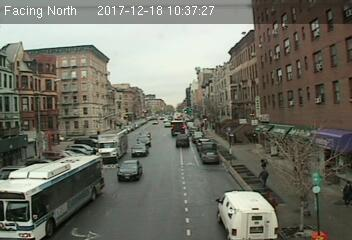bus: (1, 151, 100, 240)
car: (118, 160, 142, 180), (201, 148, 220, 165), (130, 143, 148, 156), (176, 134, 191, 146)
pedestrian: (257, 168, 271, 190)
truck: (217, 189, 281, 239), (98, 128, 126, 159)
ups: (170, 120, 185, 136)
